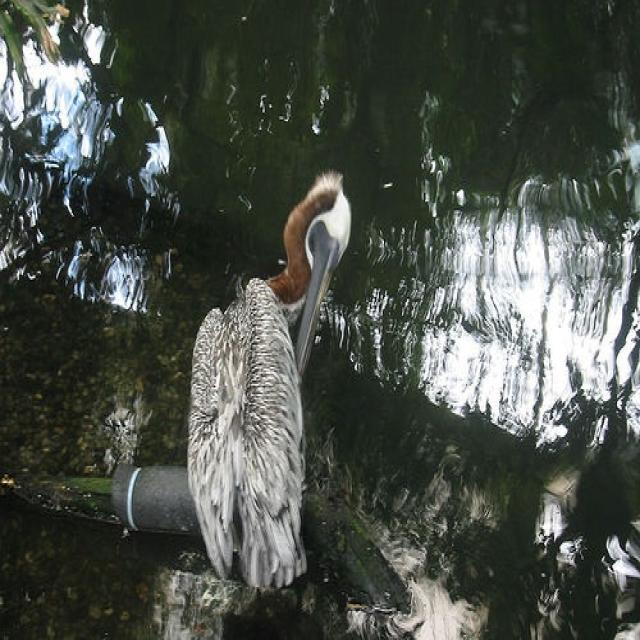bird: (187, 170, 353, 590)
